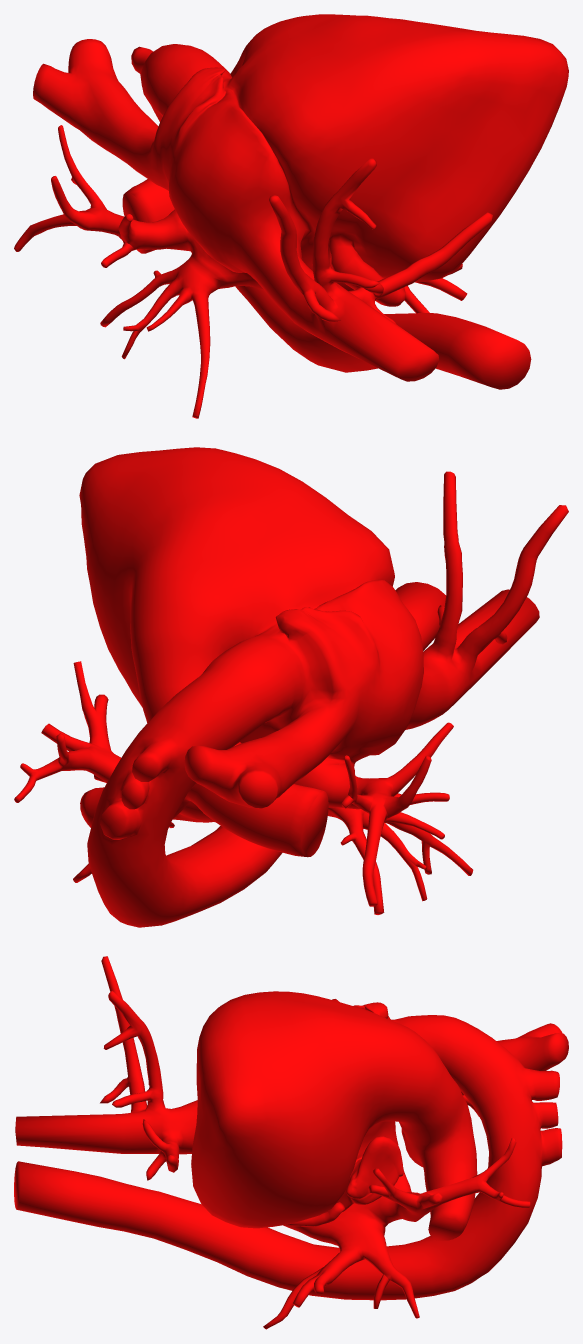
Rendered from Heart_Outer.FBX.
3 views of the same model, one above another, from view 1: azimuth 30°, elevation 25°; view 2: azimuth 150°, elevation 25°; view 3: azimuth 270°, elevation 25° (orthographic). The views are drawn at different scales.
Parts seen in each view (by area): view 1: Heart_Outer001; view 2: Heart_Outer001; view 3: Heart_Outer001.
Part boxes in pixels (x1,y1,x2,y2): Heart_Outer001: [14, 14, 568, 418]; Heart_Outer001: [14, 447, 568, 927]; Heart_Outer001: [14, 956, 568, 1329].
Bounding box in the file's own units: 173 × 137 × 230.
